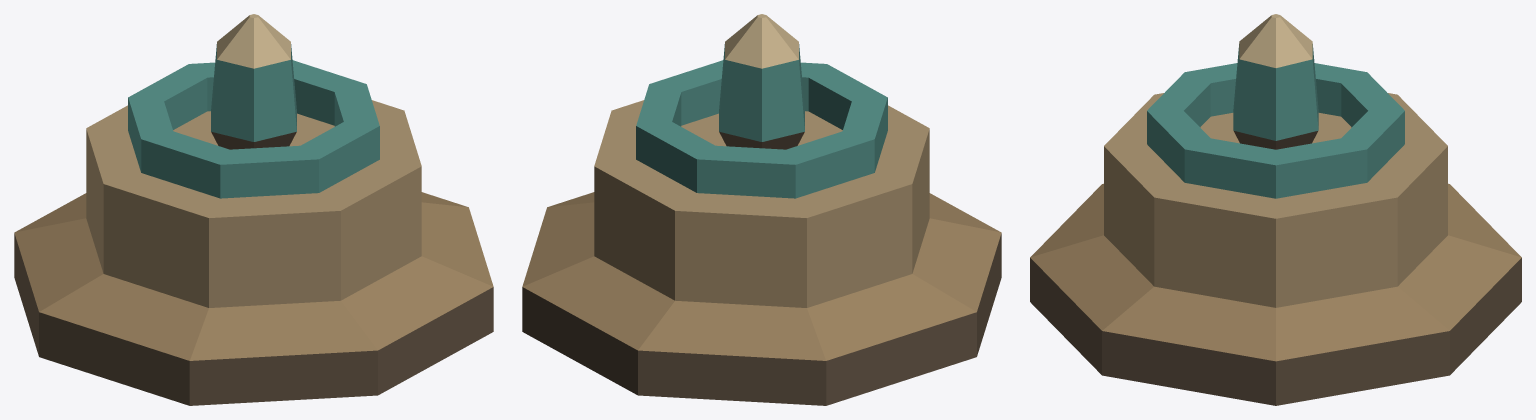
File: seal-plinth.glb
The picture shows the model from 3 angles, left to right: view 1: azimuth 30°, elevation 25°; view 2: azimuth 150°, elevation 25°; view 3: azimuth 270°, elevation 25°; orthographic projection.
Parts seen in each view (by area): view 1: seal-plinth__body; view 2: seal-plinth__body; view 3: seal-plinth__body.
Part boxes in pixels (<box>): seal-plinth__body: <box>14,14,493,405</box>; seal-plinth__body: <box>522,14,1001,405</box>; seal-plinth__body: <box>1030,14,1521,405</box>.
Bounding box in the file's own units: 1.2 × 0.77 × 1.2.
